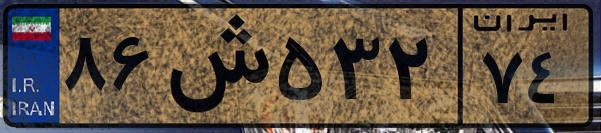2: (385, 28, 445, 110)
3: (330, 28, 385, 110)
4: (525, 38, 570, 115)
5: (270, 28, 330, 110)
6: (110, 28, 158, 98)
7: (475, 38, 525, 113)
8: (57, 26, 110, 100)
ش: (158, 12, 270, 120)
